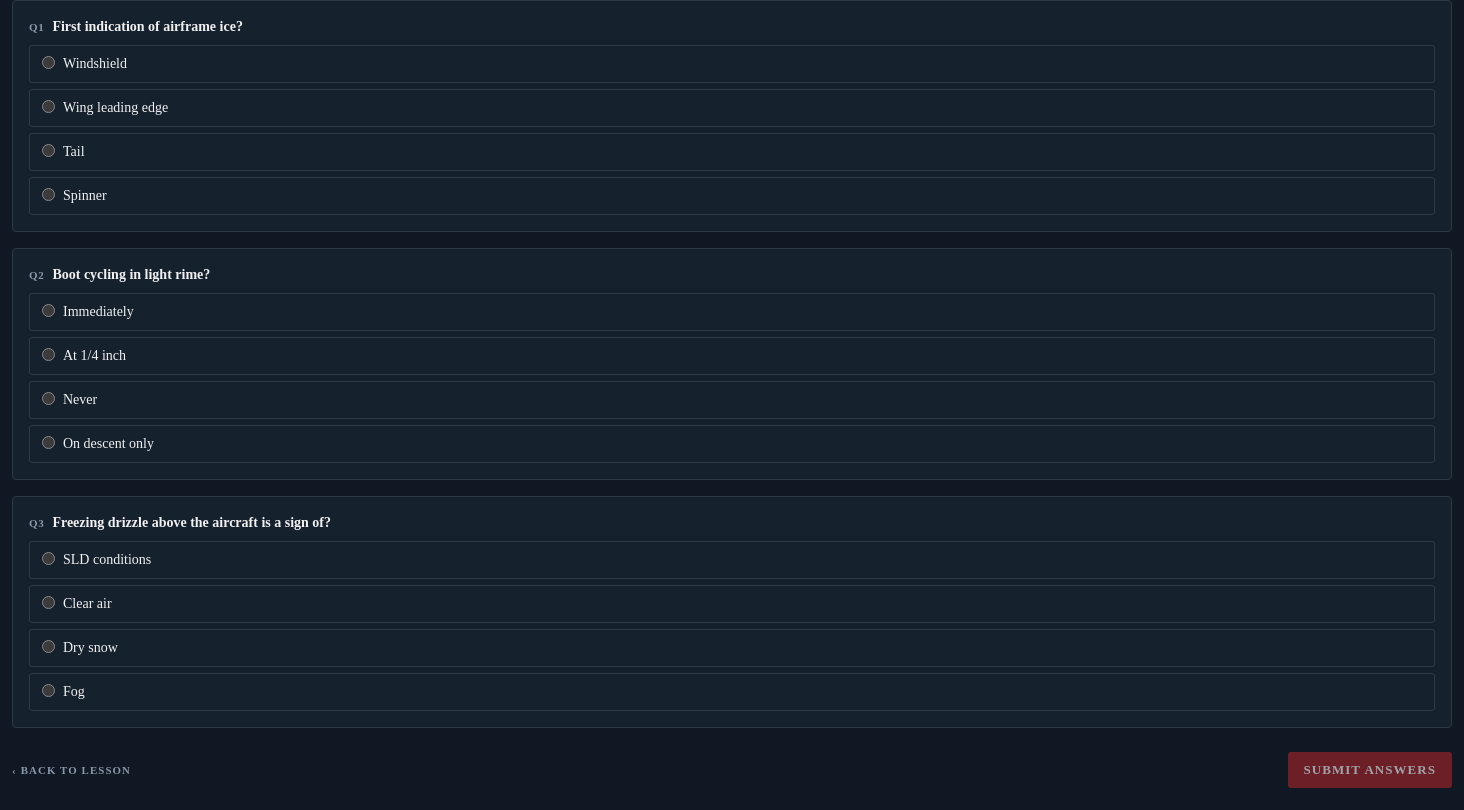
Scenario: the result comes from the server, not the client › reports a fail even when every answer looked right locally
Click the radio button labelled "Wing leading edge" at [48, 106], box [42,100,55,113]
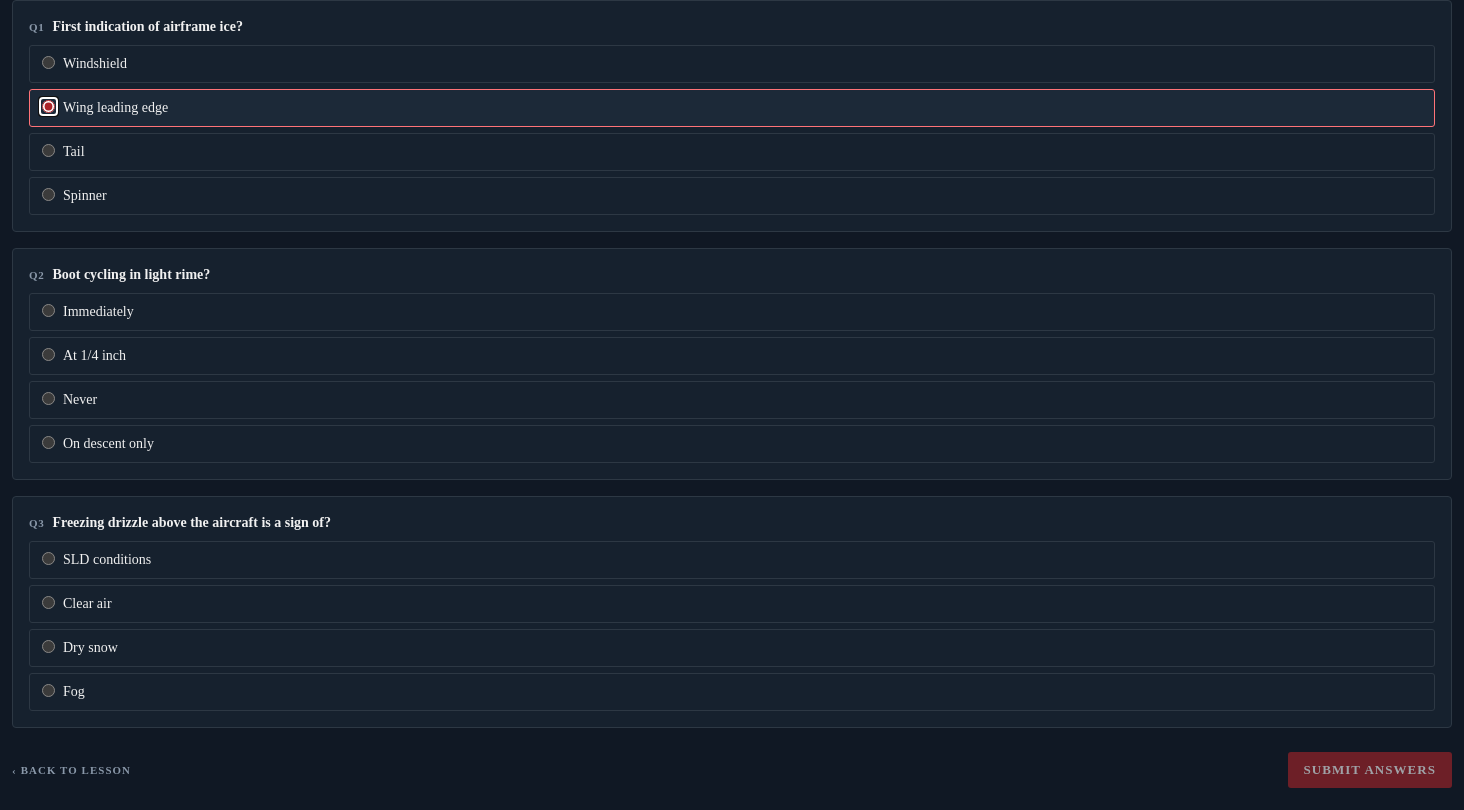
Click the radio button labelled "At 1/4 inch" at [48, 354], box [42,348,55,361]
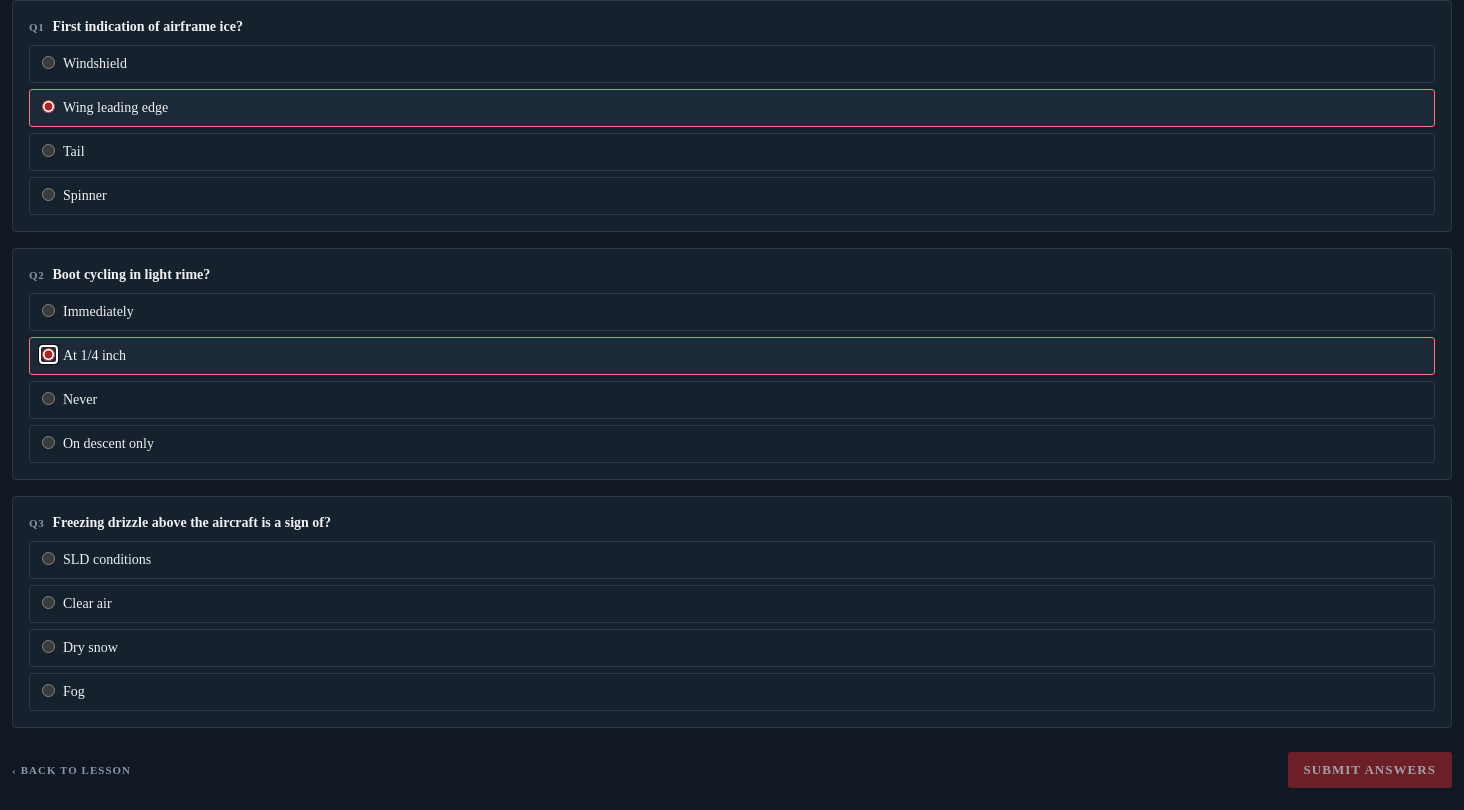
Click the radio button labelled "SLD conditions" at [48, 558], box [42,552,55,565]
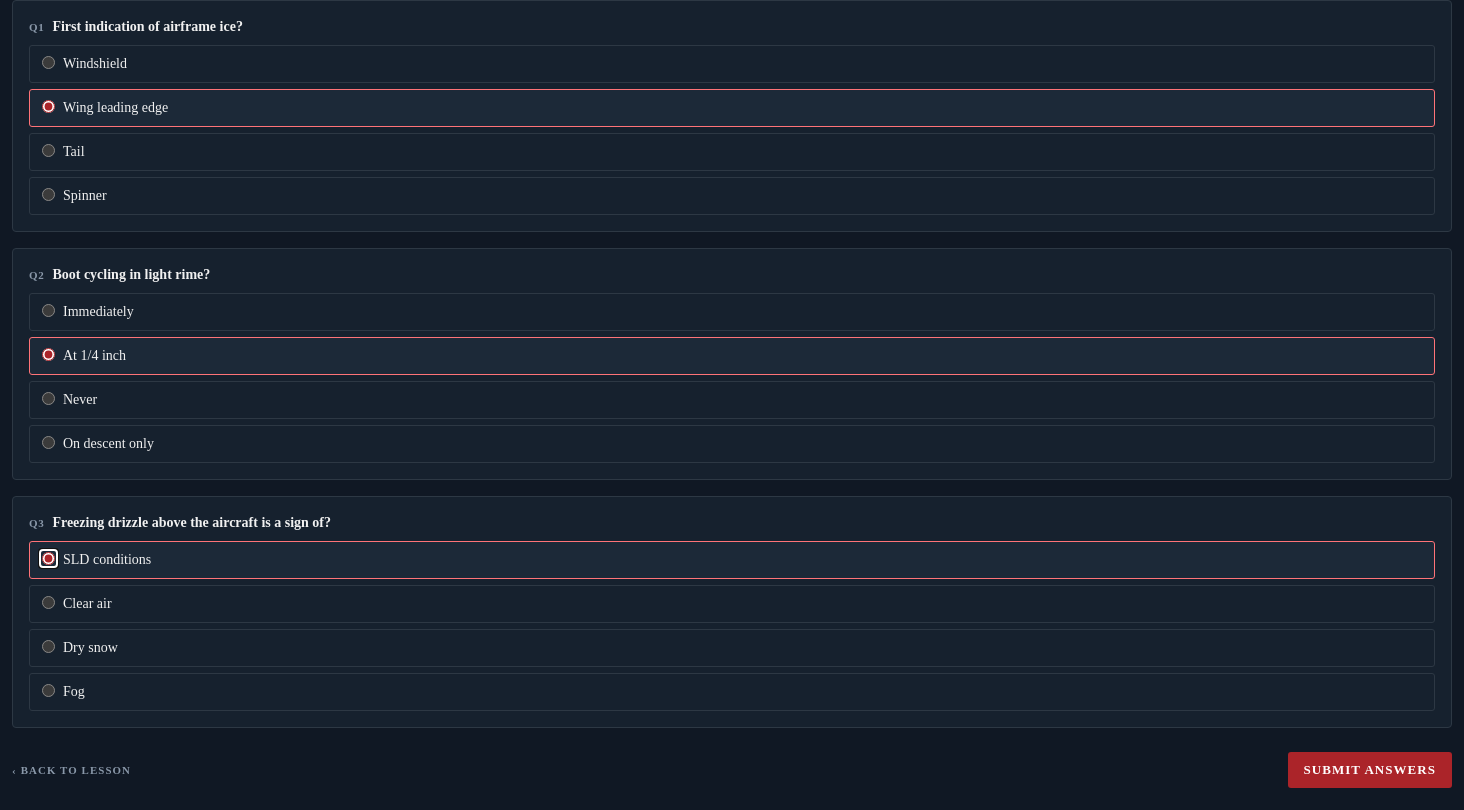
Click the button "Submit answers" at [1370, 770], box [1288,752,1452,788]
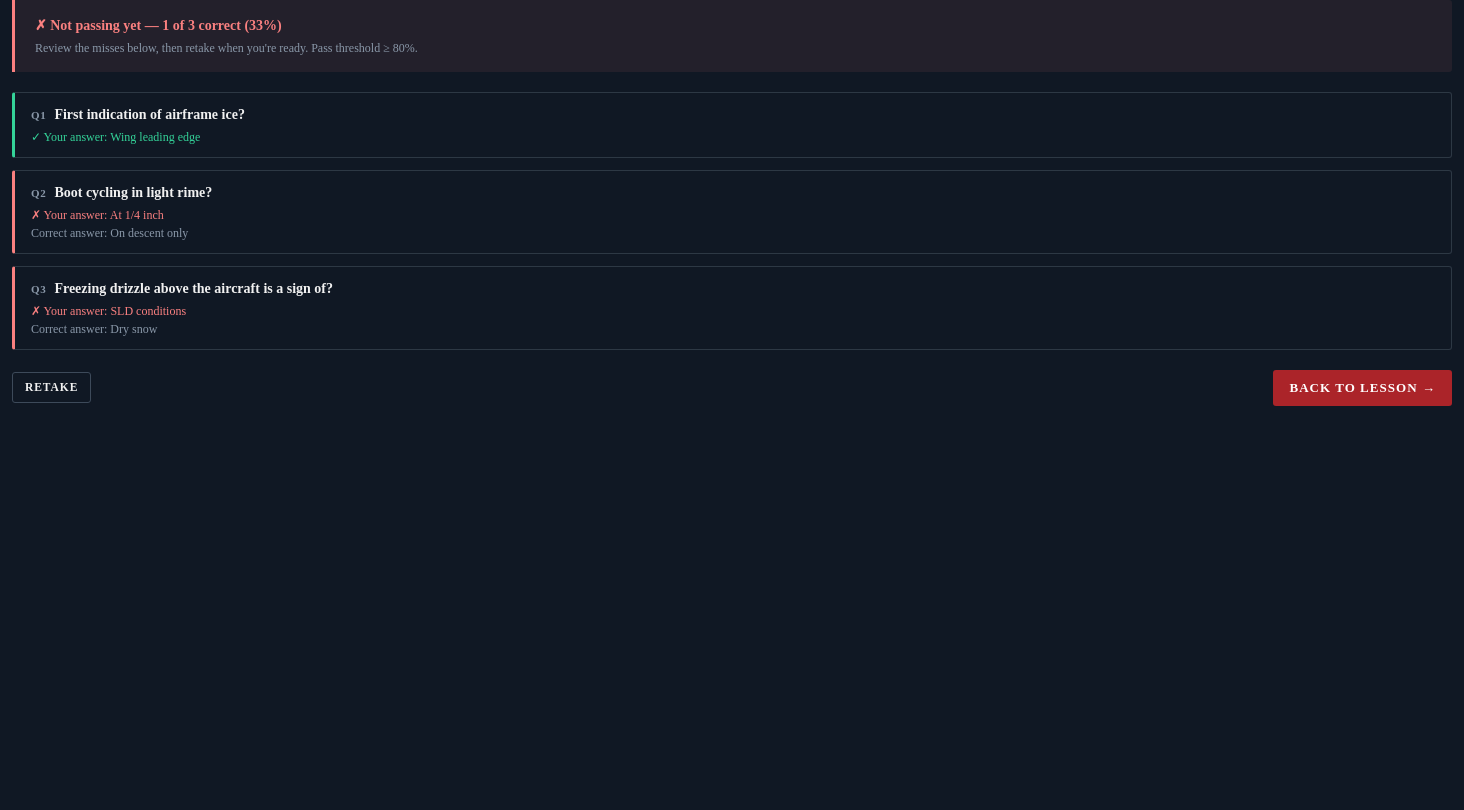
Expected: the message shows "Not passing yet", [35,18,141,33]
Expected: the message shows "1 of 3 correct (33%)", [12,0,1452,72]
Expected: the message shows "≥ 80%", [35,41,418,55]
